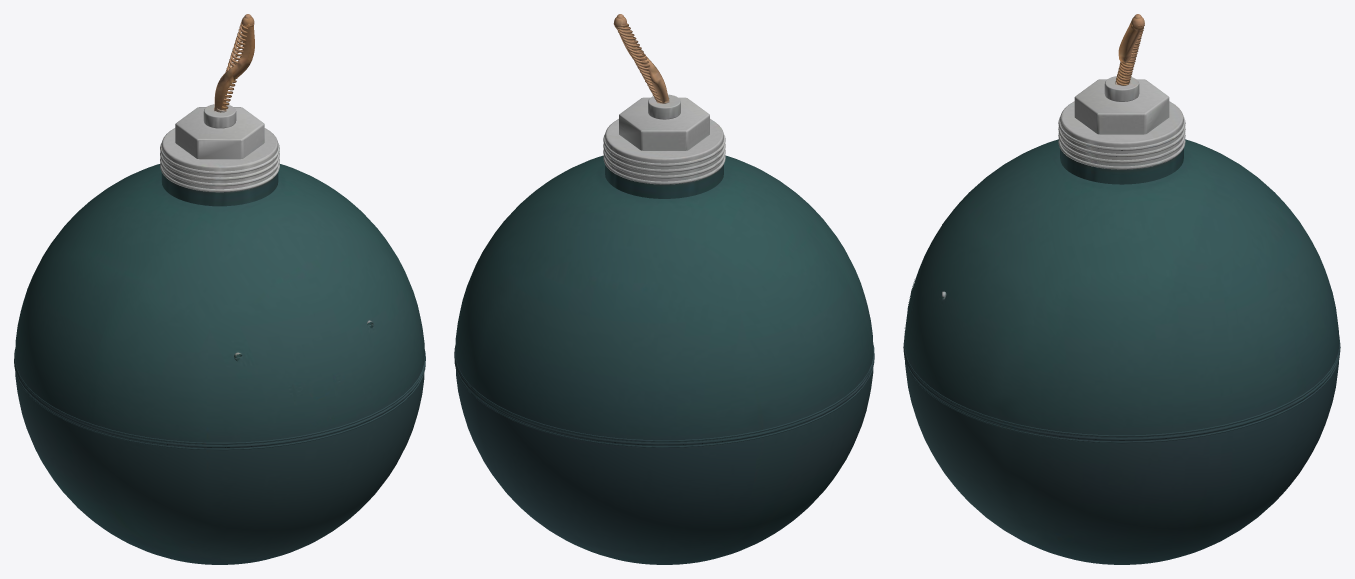
The model's file is pop-bomb.glb.
3 views of the same model, side by side, from view 1: azimuth 30°, elevation 25°; view 2: azimuth 150°, elevation 25°; view 3: azimuth 270°, elevation 25° (orthographic). The views are drawn at different scales.
Parts seen in each view (by area): view 1: pop-bomb; view 2: pop-bomb; view 3: pop-bomb.
Part boxes in pixels (bbox=[...]): pop-bomb: bbox=[14, 14, 425, 564]; pop-bomb: bbox=[454, 14, 874, 564]; pop-bomb: bbox=[903, 14, 1340, 564].
Size of the model in its own units: 0.3816 by 0.5285 by 0.3816.
Materials: 1 (1 with a texture image).
